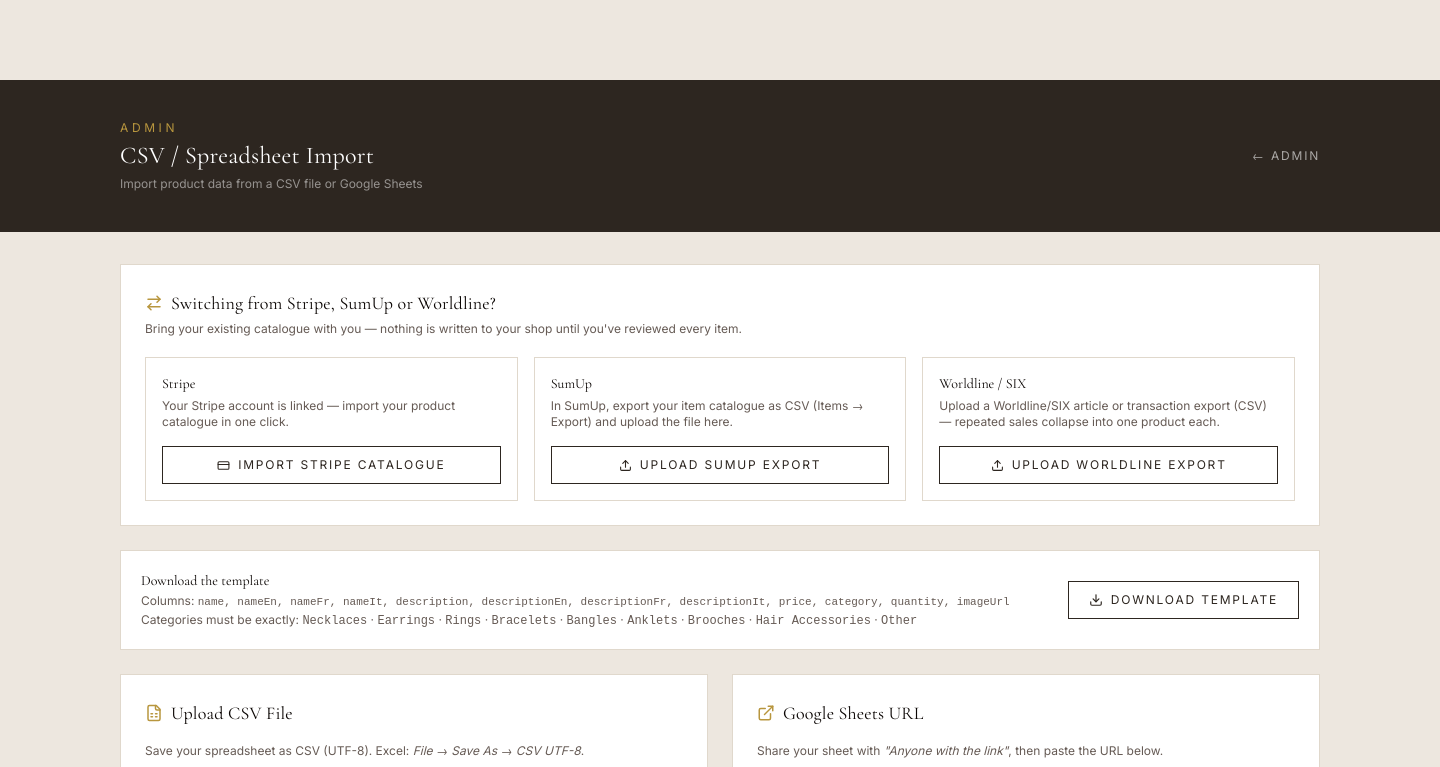
Test: CsvImport: provider migration (Stripe / SumUp / Worldline) › imports the Stripe catalogue in one click once connected
The image size is (1440, 767).
Click the button with test id "migrate-stripe-button". click: click(331, 465)
box: [162,446,501,484]
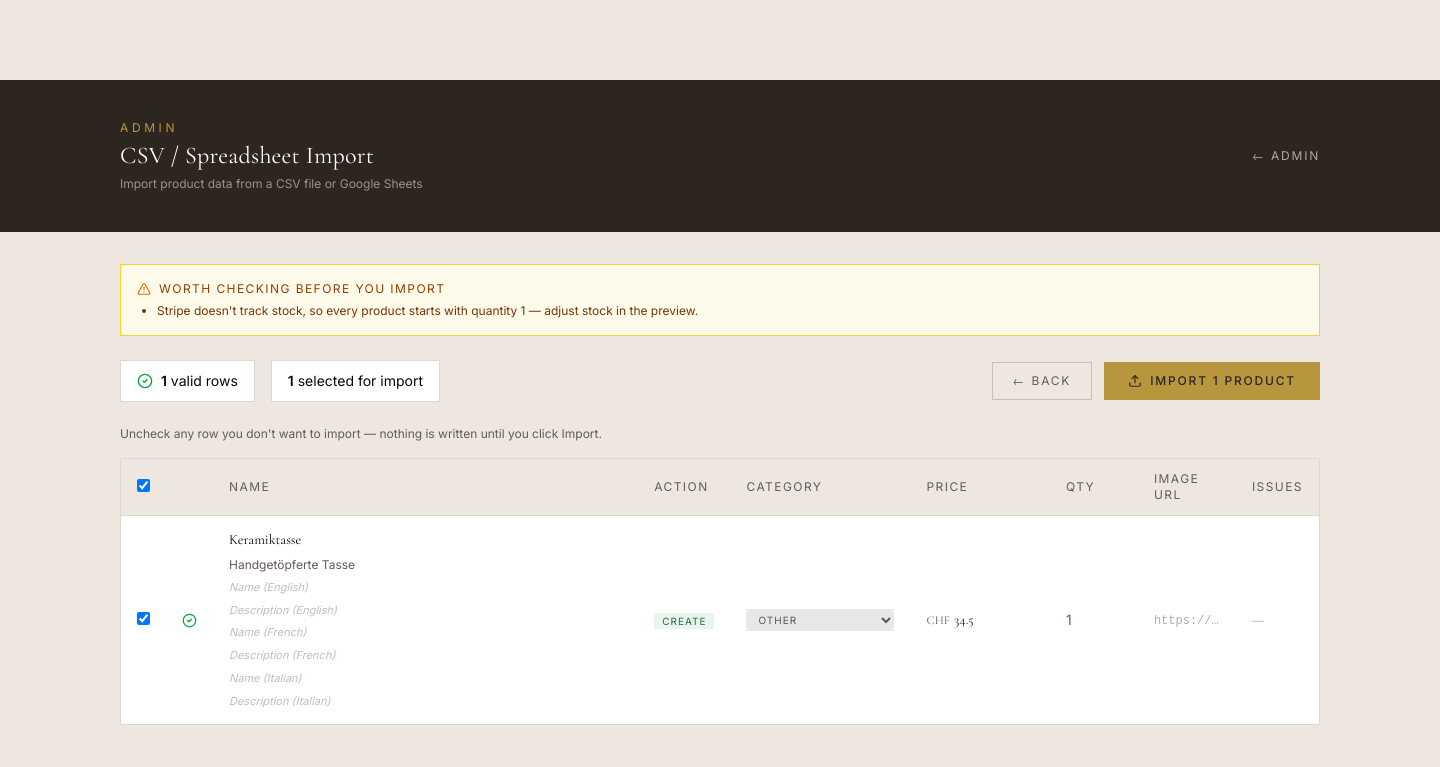
Expected: the 1st field showing "Keramiktasse" is shown, [229,528,622,553]
Expected: the element with test id "migration-warnings" shows "quantity 1", [157,303,698,318]
